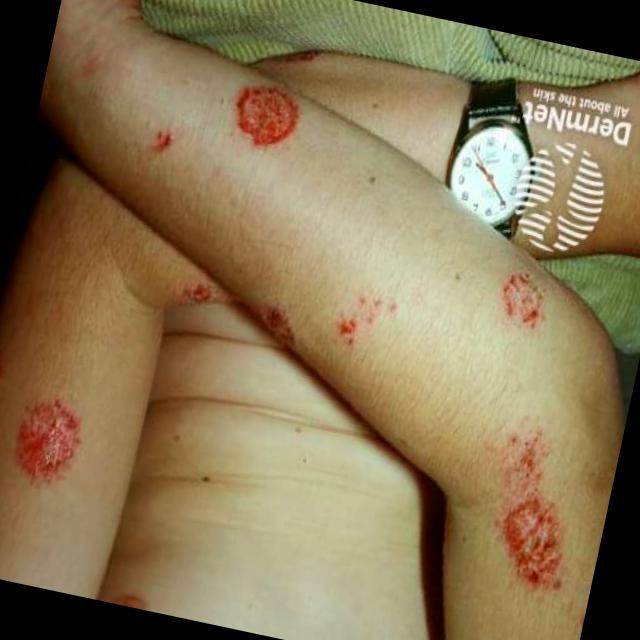Eczema: (481, 434, 571, 596), (254, 289, 394, 348), (18, 389, 88, 493), (237, 89, 302, 149), (491, 268, 545, 338)
